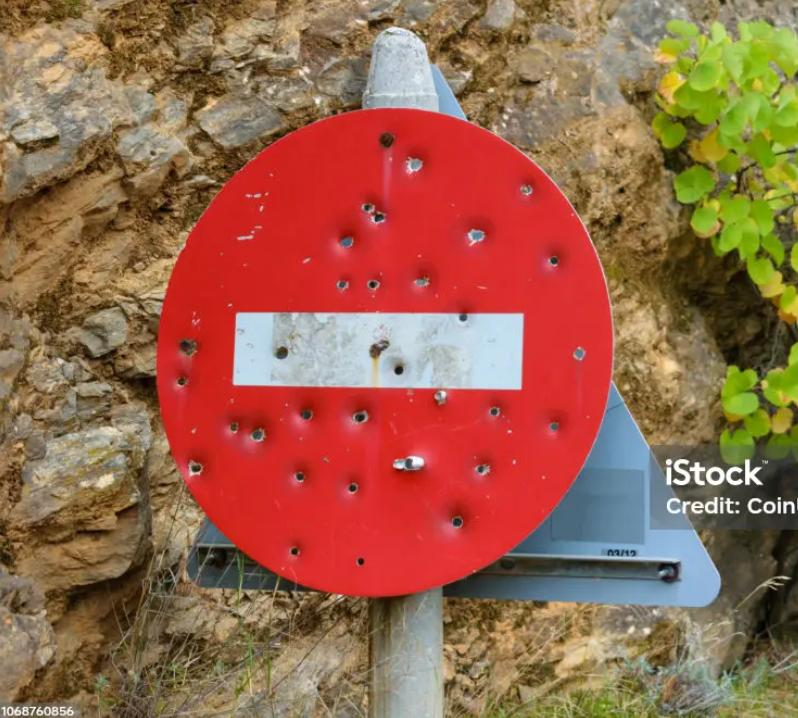obstructed_road_sign: (158, 109, 612, 595), (158, 109, 611, 595)
